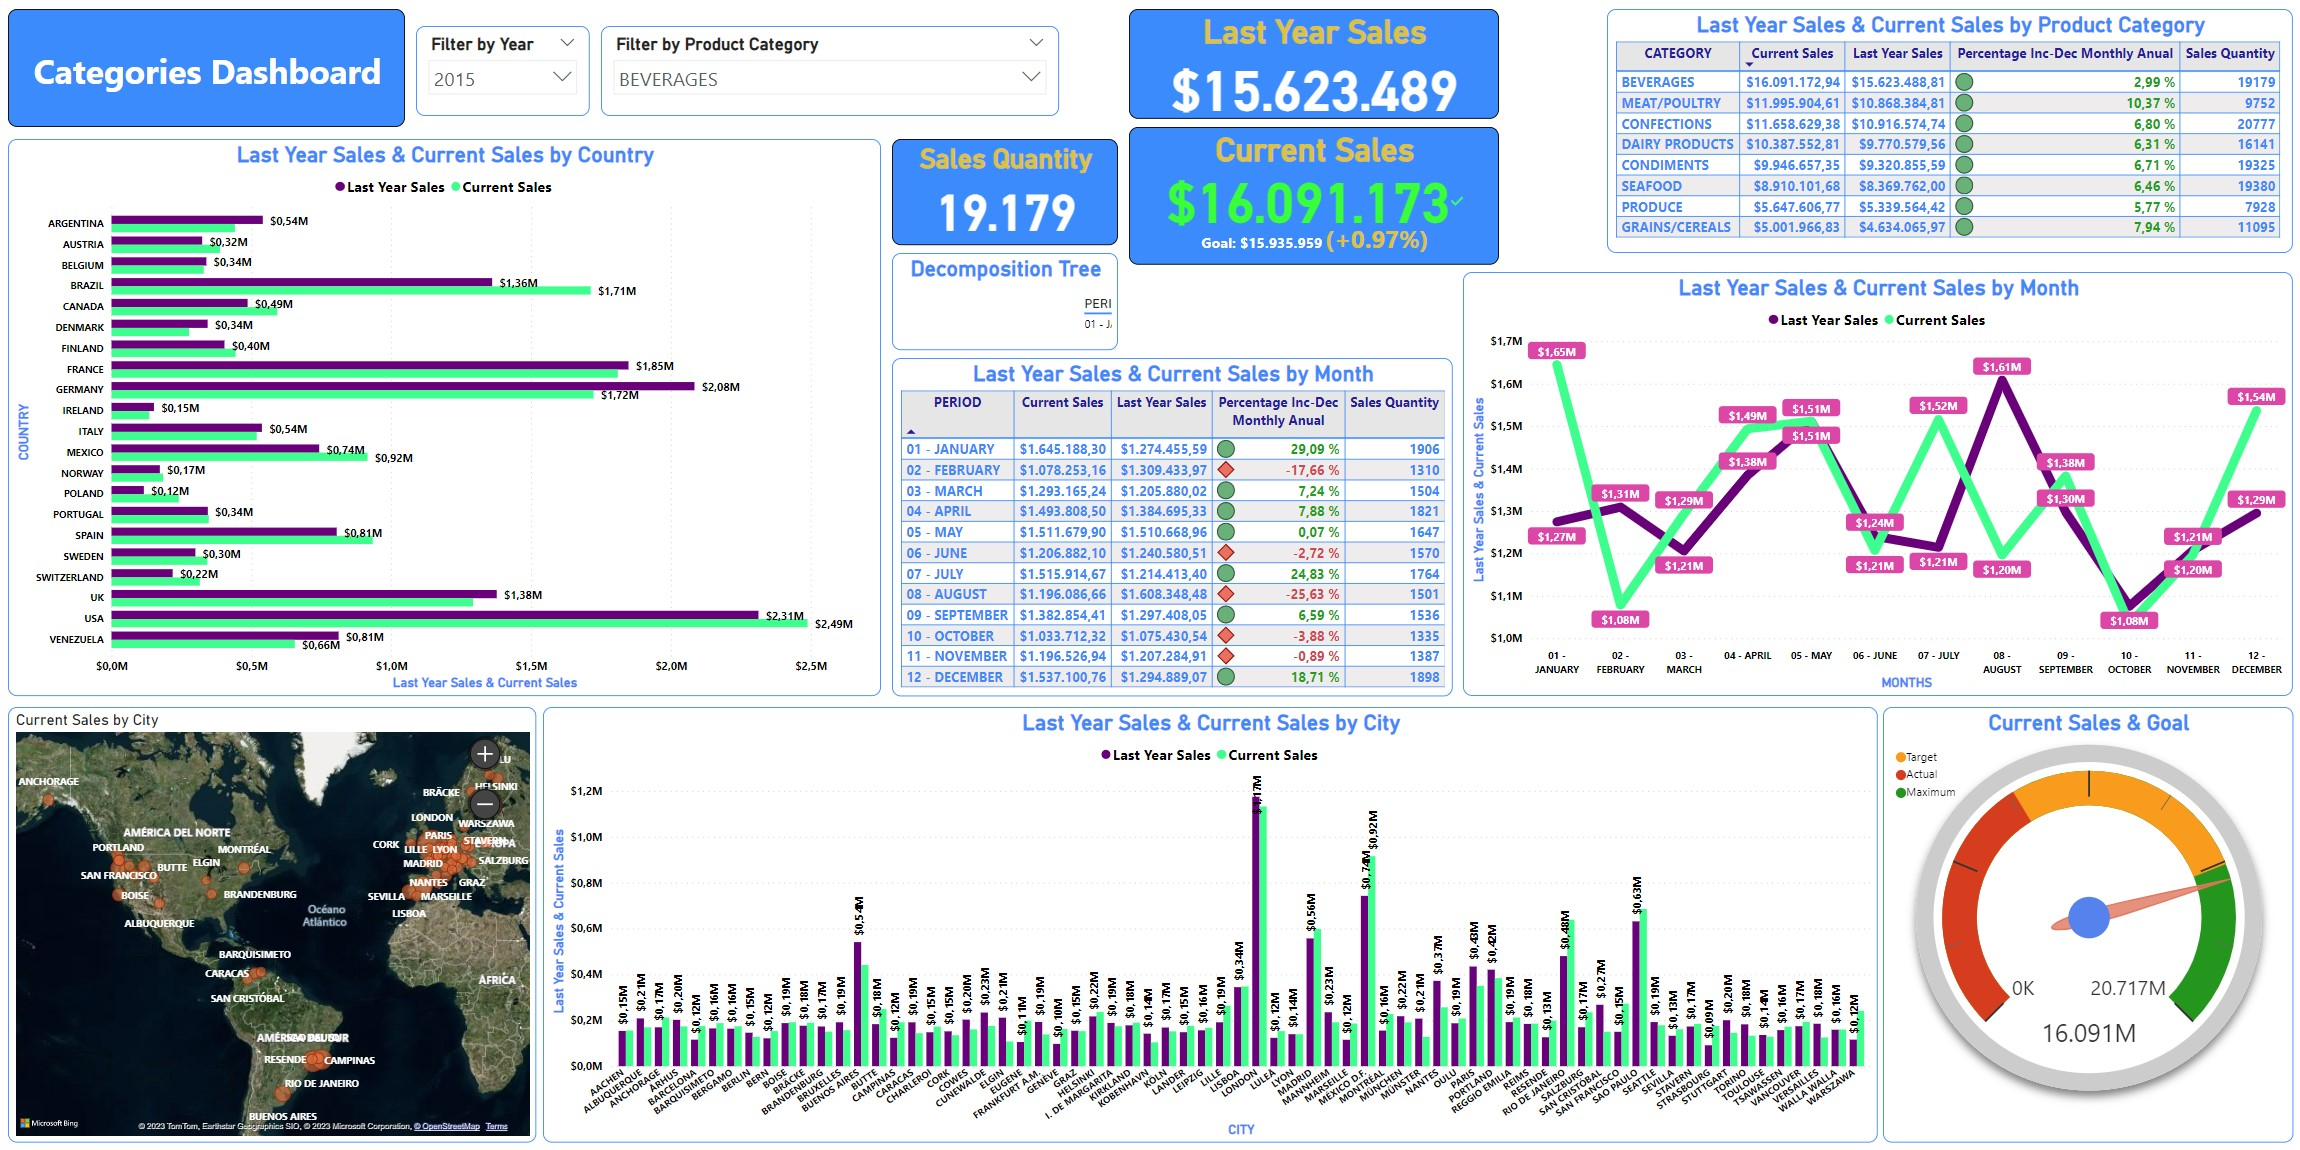

The page's visual inventory and layout, read from the dashboard file:
{"tool":"powerbi","page":{"name":"Categories","canvas":[2560,1280],"ordinal":4},"visuals":[{"type":"slicer","fields":{"Values":["DIM_TIME.YEAR"]},"box":[463.3,28.9,193.3,100],"z":0},{"type":"card","title":"Last Year Sales","fields":{"Values":["METRICAS.Ventas del año anterior"]},"box":[1255.6,10,411.1,122.2],"z":1000},{"type":"kpi","title":"Current Sales","fields":{"Indicator":["METRICAS.Ventas actuales"],"TrendLine":["DIM_TIME.YEAR"],"Goal":["METRICAS.Monto Meta"]},"box":[1255.6,141.1,411.1,153.3],"z":2000},{"type":"tableEx","title":"Last Year Sales & Current Sales by Month","fields":{"Values":["DIM_TIME.PERIOD","METRICAS.Ventas actuales","METRICAS.Ventas del año anterior","METRICAS.Porcentaje Inc-Dec Mensual Anual","METRICAS.Cantidad de ordenes"]},"box":[992.2,397.8,623.3,375.6],"z":3000},{"type":"card","title":"Sales Quantity","fields":{"Values":["METRICAS.Cantidad de ordenes"]},"box":[992.2,154.4,251.1,117.8],"z":4000},{"type":"clusteredBarChart","title":"Last Year Sales & Current Sales by Country","fields":{"Category":["DIM_CUSTOMERS.COUNTRY"],"Y":["METRICAS.Ventas del año anterior","METRICAS.Ventas actuales"]},"box":[10,154.4,970,618.9],"z":5000},{"type":"lineChart","title":"Last Year Sales & Current Sales by Month","fields":{"Category":["DIM_TIME.PERIOD"],"Y":["METRICAS.Ventas del año anterior","METRICAS.Ventas actuales"]},"box":[1626.7,302.2,922.2,471.1],"z":6000},{"type":"clusteredColumnChart","title":"Last Year Sales & Current Sales by City","fields":{"Y":["METRICAS.Ventas del año anterior","METRICAS.Ventas actuales"],"Category":["DIM_CUSTOMERS.CITY"]},"box":[604.4,785.6,1483.3,484.4],"z":7000},{"type":"textbox","box":[10,10,441.1,131.1],"z":8000},{"type":"slicer","fields":{"Values":["DIM_PRODUCTS.CATEGORY"]},"box":[668.9,28.9,508.9,100],"z":9000},{"type":"tableEx","title":"Last Year Sales & Current Sales by Product Category","fields":{"Values":["DIM_PRODUCTS.CATEGORY","METRICAS.Ventas actuales","METRICAS.Ventas del año anterior","METRICAS.Porcentaje Inc-Dec Mensual Anual","METRICAS.Cantidad de ordenes"]},"box":[1786.7,10,762.2,271.1],"z":10000},{"type":"map","title":"Current Sales by City","fields":{"Category":["DIM_CUSTOMERS.CITY"],"Size":["METRICAS.Current Sales"]},"box":[10,785.6,586.7,484.4],"z":11000},{"type":"decompositionTreeVisual","title":"Decomposition Tree","fields":{"Analyze":["METRICAS.Current Sales"],"ExplainBy":["DIM_TIME.PERIOD","DIM_EMPLOYEES.EMPLOYEE_NAME","DIM_PRODUCTS.CATEGORY","DIM_PRODUCTS.PRODUCT_NAME","DIM_PRODUCTS.SUPPLIER","DIM_CUSTOMERS.CONTACT_NAME"]},"box":[992.2,281.1,251.1,107.8],"z":12000},{"type":"dg5AAA90EFEFE747CB9357C4FC19B85A58","title":"Current Sales & Goal","fields":{"pointerValue":["METRICAS.Current Sales"],"redEnd":["METRICAS.Min Sales"],"max":["METRICAS.Max Sales"],"yellowEnd":["METRICAS.Last Year Sales"]},"box":[2093.3,785.6,455.6,484.4],"z":13000}]}

Visuals, with their boxes in screenshot pixels (x1, y1, x2, y2), scaled from the page's 2560x1280 canvas onto the 2300x1150 screenshot:
slicer - DIM_TIME.YEAR: (416,26,590,116)
"Last Year Sales" card: (1128,9,1497,119)
"Current Sales" kpi: (1128,127,1497,264)
"Last Year Sales & Current Sales by Month" tableEx: (891,357,1451,695)
"Sales Quantity" card: (891,139,1117,245)
"Last Year Sales & Current Sales by Country" clusteredBarChart: (9,139,880,695)
"Last Year Sales & Current Sales by Month" lineChart: (1461,272,2290,695)
"Last Year Sales & Current Sales by City" clusteredColumnChart: (543,706,1876,1141)
textbox: (9,9,405,127)
slicer - DIM_PRODUCTS.CATEGORY: (601,26,1058,116)
"Last Year Sales & Current Sales by Product Category" tableEx: (1605,9,2290,253)
"Current Sales by City" map: (9,706,536,1141)
"Decomposition Tree" decompositionTreeVisual: (891,253,1117,349)
"Current Sales & Goal" dg5AAA90EFEFE747CB9357C4FC19B85A58: (1881,706,2290,1141)
